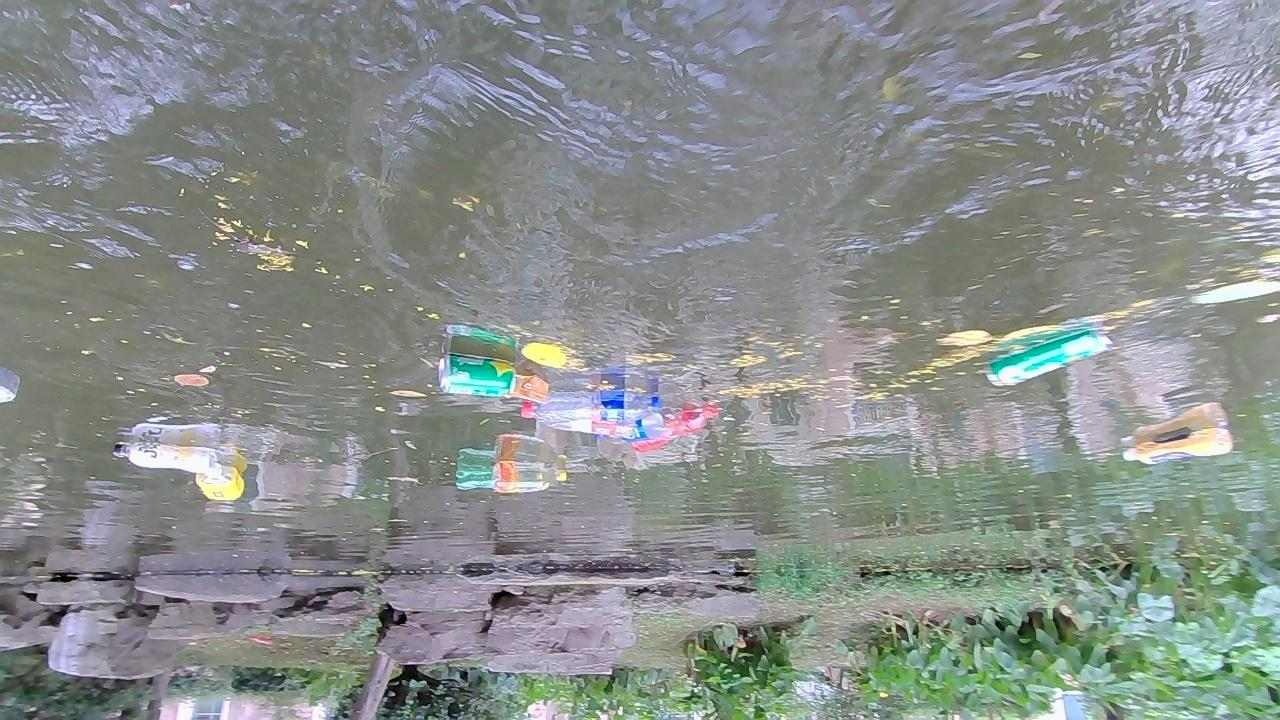Metal: (984, 328, 1116, 388), (438, 352, 517, 399)
Plastic: (1121, 425, 1234, 466), (631, 404, 720, 454), (540, 388, 661, 424), (520, 400, 634, 436), (112, 443, 216, 473), (491, 460, 568, 494), (194, 461, 246, 501), (456, 471, 495, 491)
